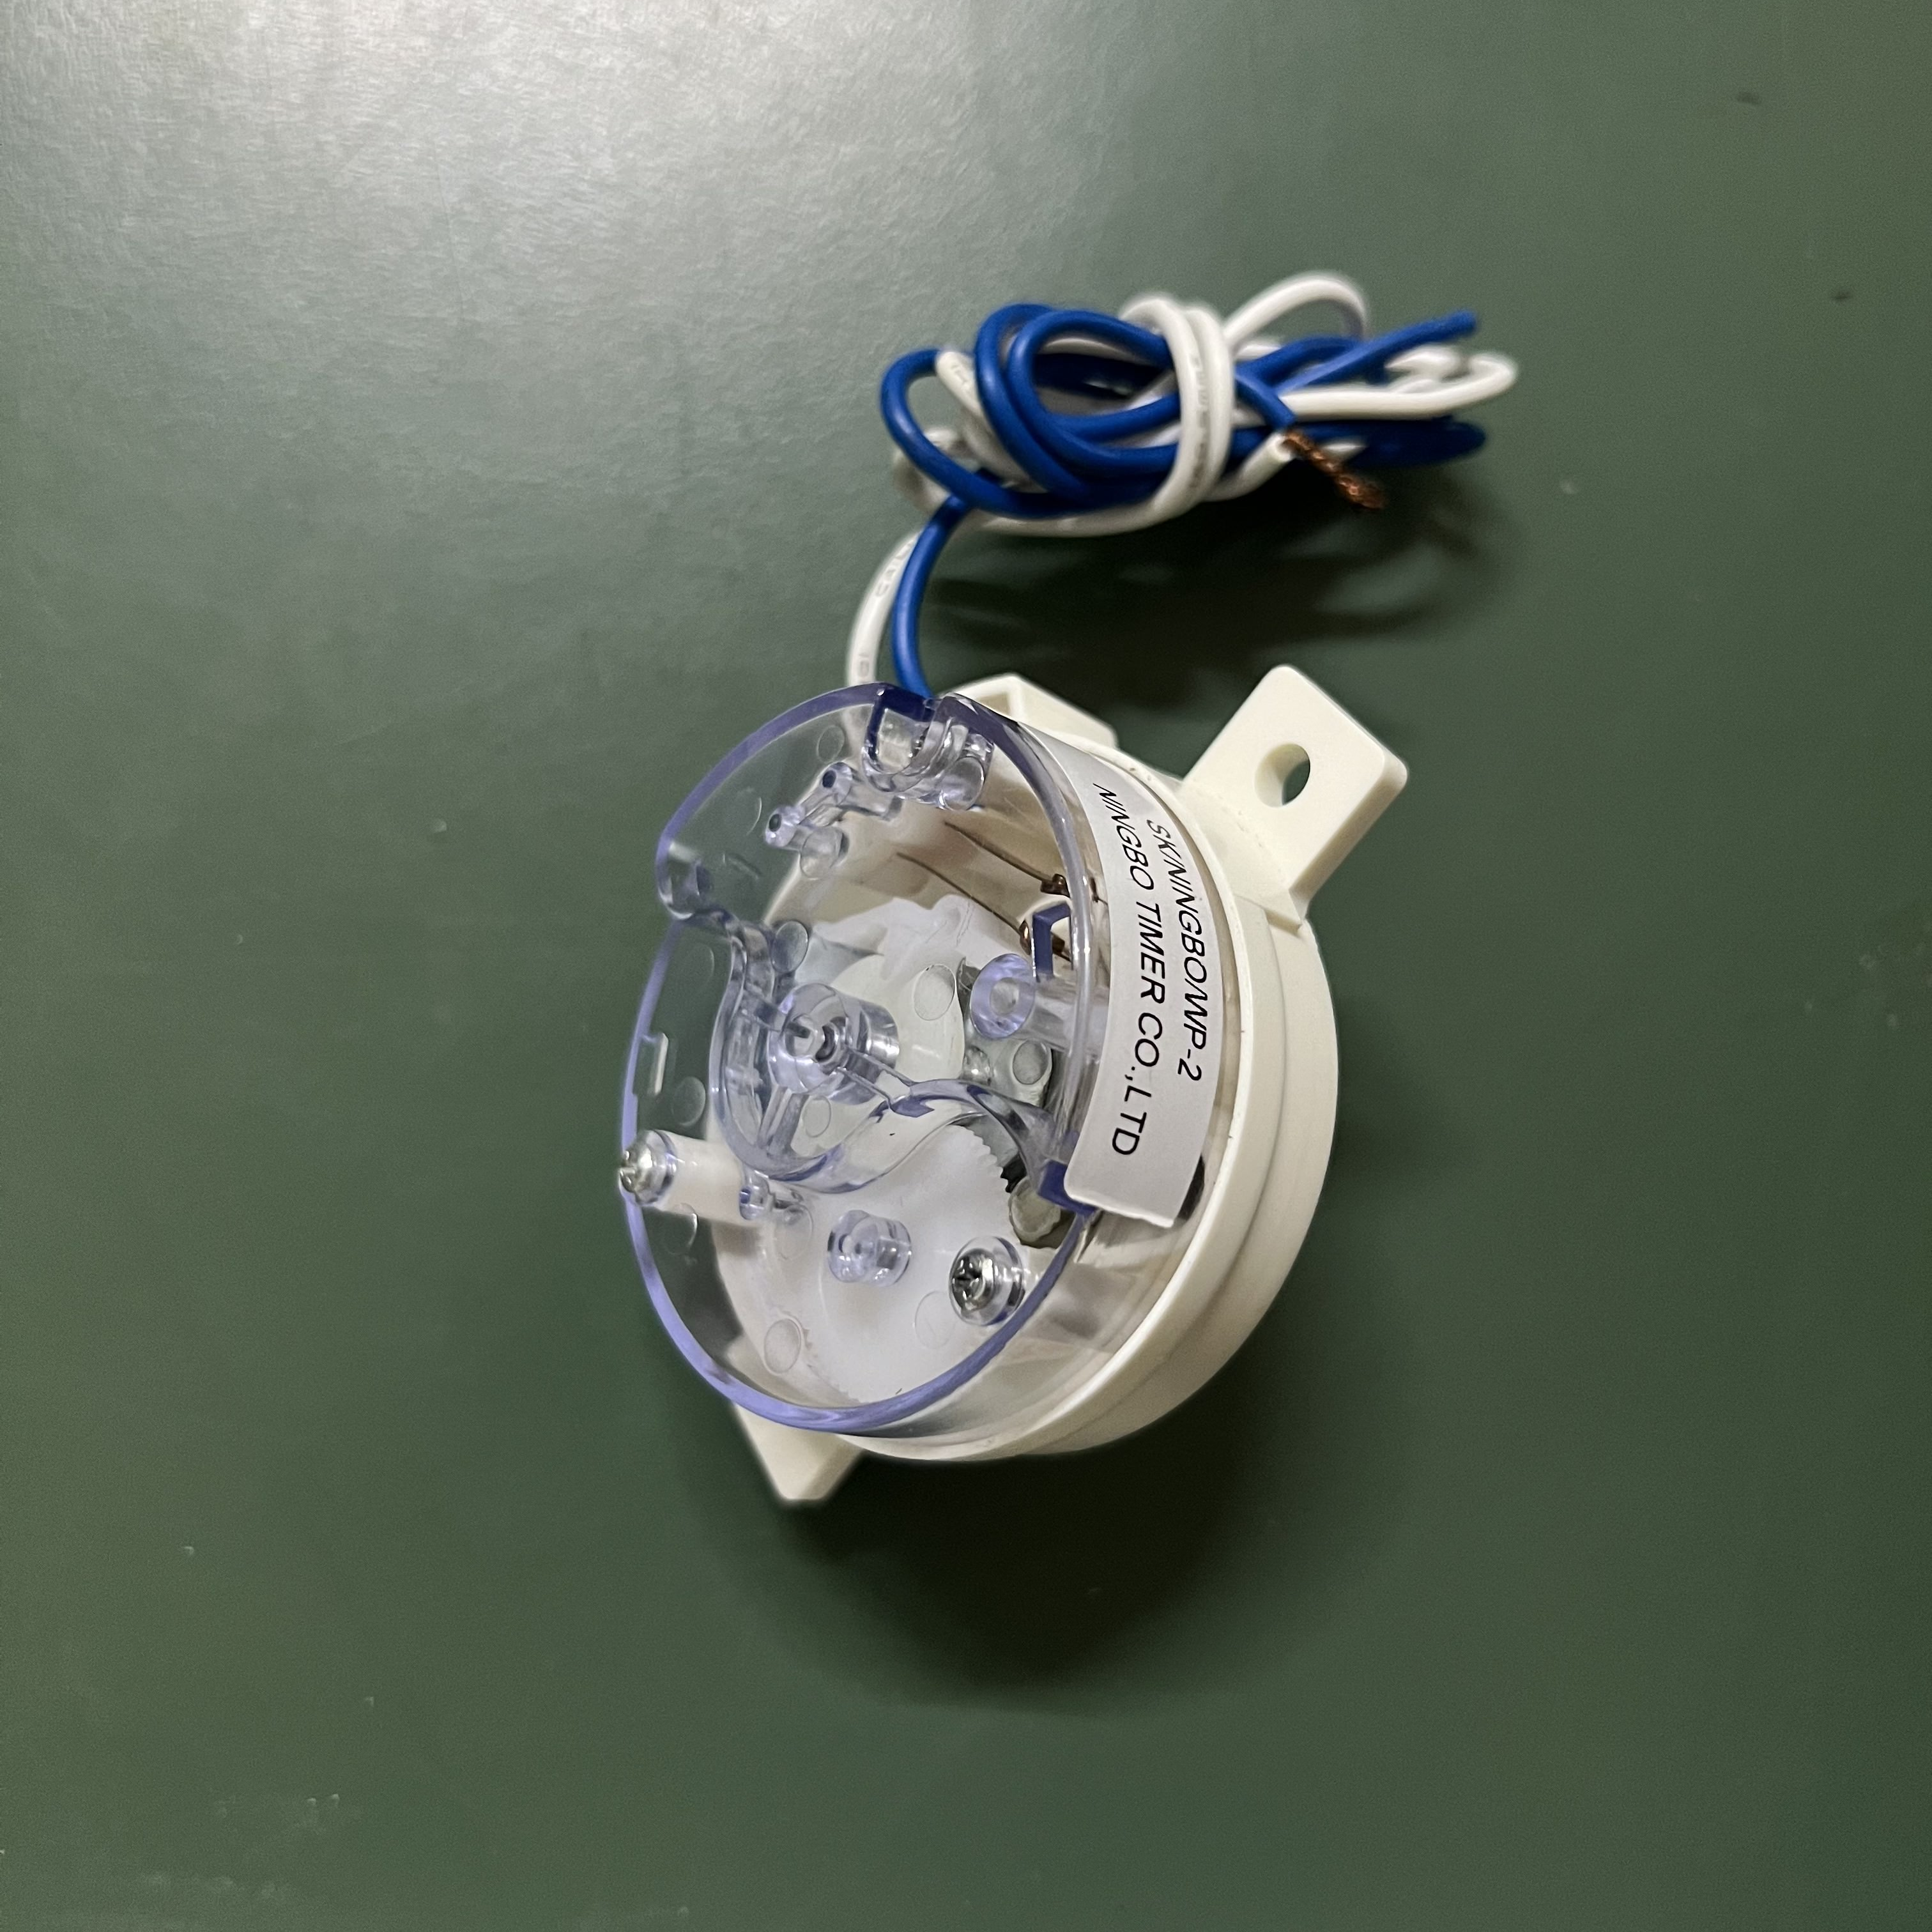circle_timer: (541, 239, 1548, 1548)
